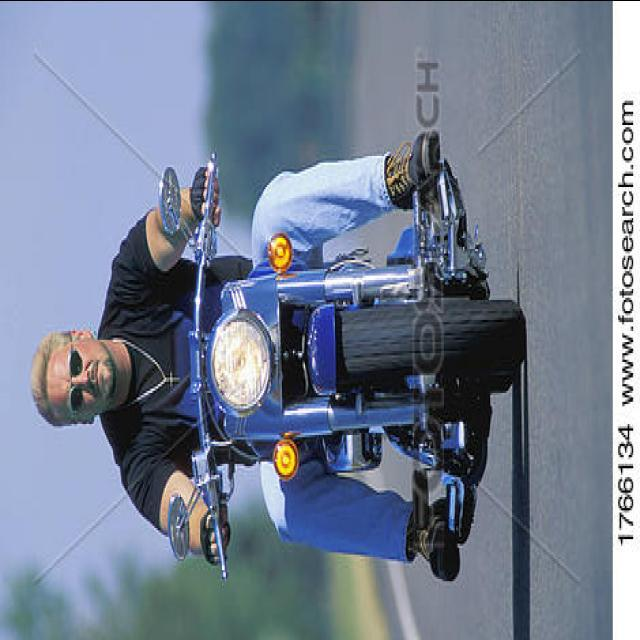motorcycle: (27, 123, 528, 572)
